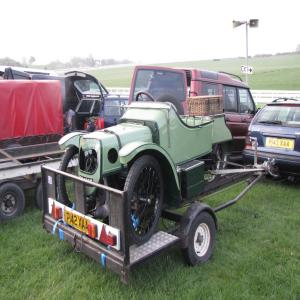Vehicle-registration-plate: (66, 211, 90, 234), (264, 139, 295, 153)
